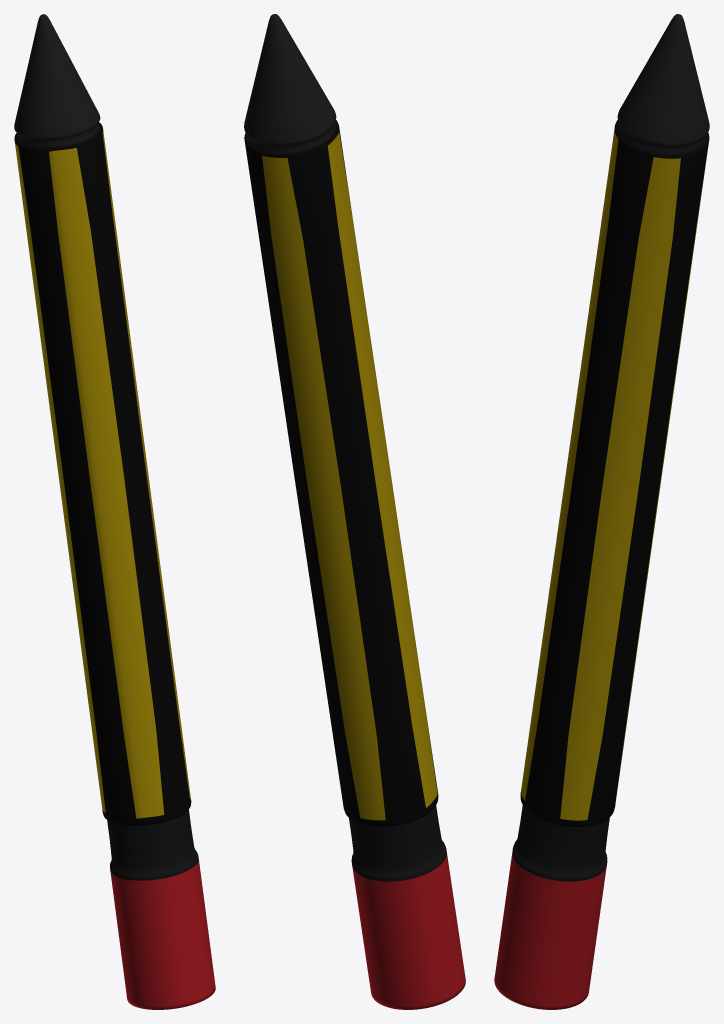
Rendered from Pencil.obj.
3 renders of one model, left to right at view 1: azimuth 90°, elevation 25°; view 2: azimuth 150°, elevation 25°; view 3: azimuth 270°, elevation 25°, orthographic. The views are drawn at different scales.
Parts seen in each view (by area): view 1: Cylinder.002; view 2: Cylinder.002; view 3: Cylinder.002.
Boxes of the visible parts, x1=… form: Cylinder.002: x1=14, y1=14, x2=215, y2=1009; Cylinder.002: x1=244, y1=14, x2=465, y2=1009; Cylinder.002: x1=494, y1=14, x2=709, y2=1009.
Bounding box in the file's own units: 0.1761 × 1.14 × 0.2186.
